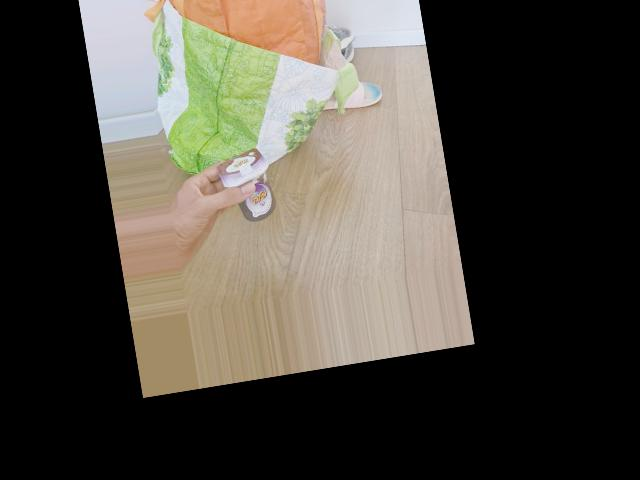milky: (214, 141, 280, 226)
